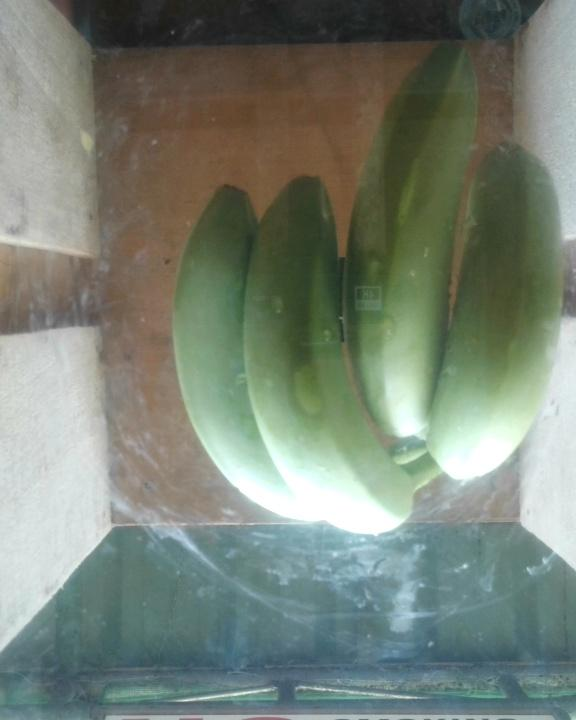SPOT: (164, 40, 576, 541)
